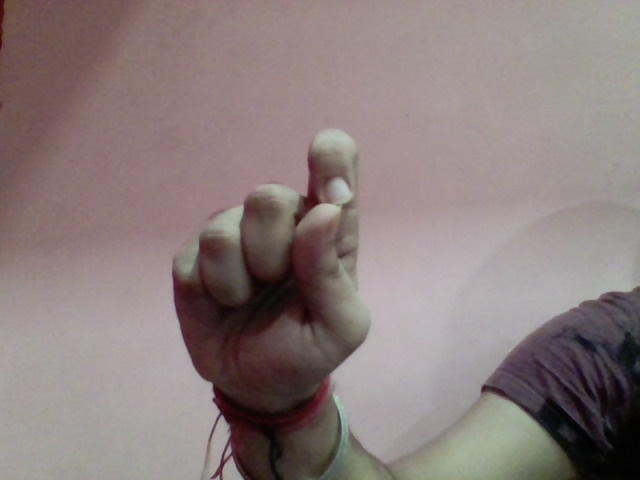t: (159, 114, 394, 408)
